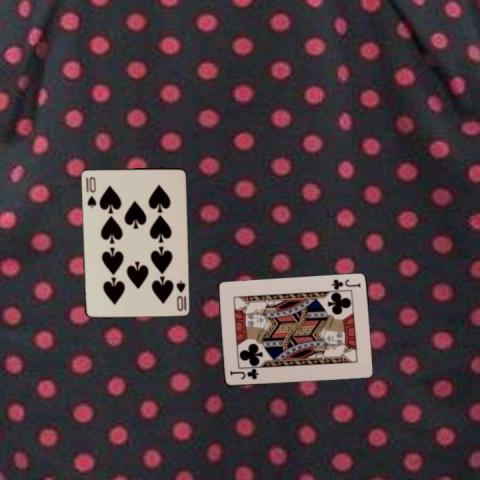10s: (84, 173, 97, 209), (173, 277, 186, 312)
Jc: (227, 367, 260, 381), (329, 277, 361, 291)
